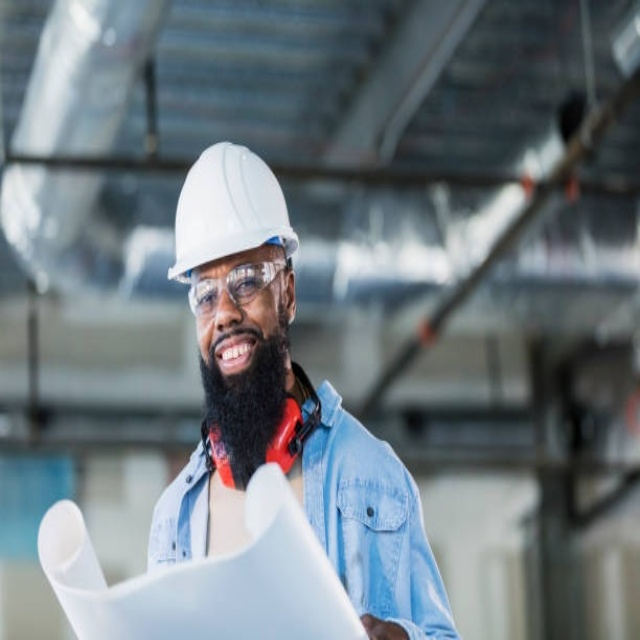Gafas: (187, 255, 289, 317)
Sin_mascara: (207, 328, 264, 387)
